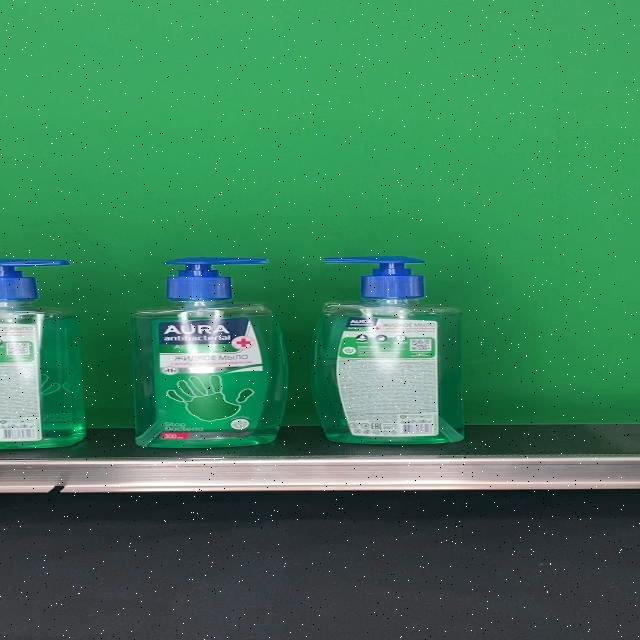Bottle: (132, 257, 290, 448), (310, 256, 464, 445)
Cap: (322, 256, 426, 298), (164, 258, 267, 300)
